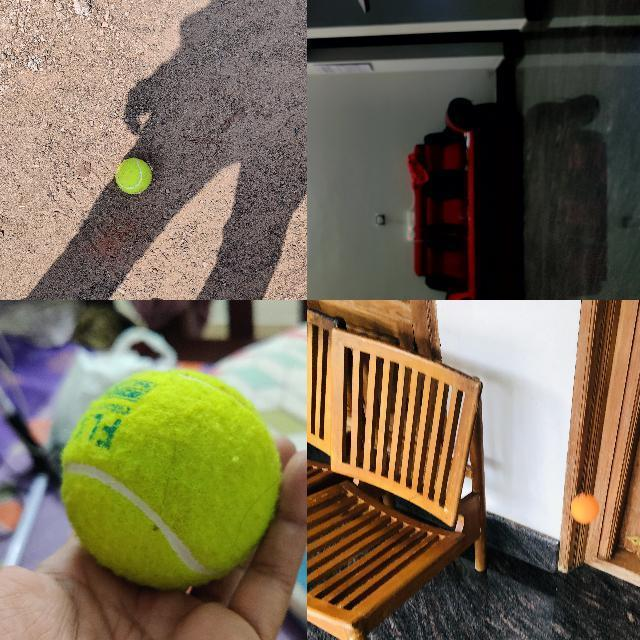tennis-ball: (61, 370, 282, 590), (115, 158, 151, 194)
